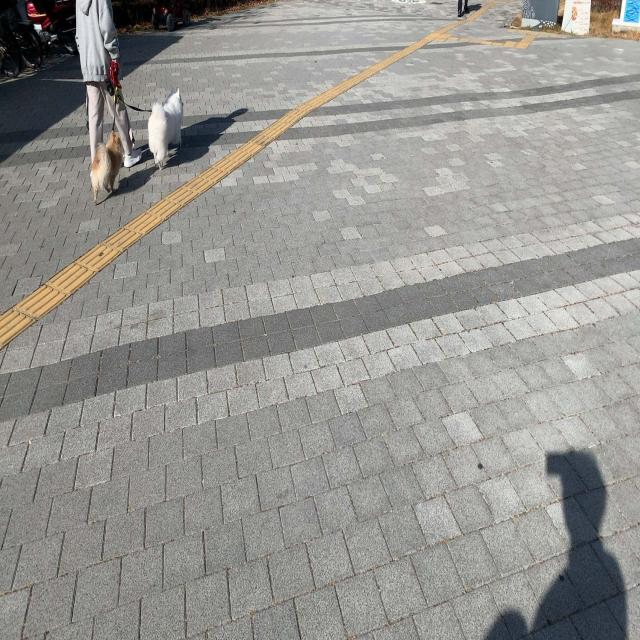Leashed_Dog: (108, 41, 184, 171), (90, 43, 123, 206)
